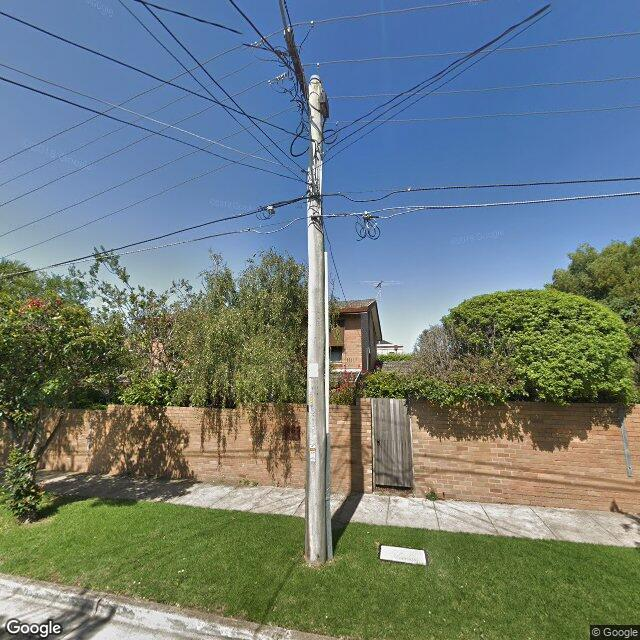crossarm: (250, 26, 310, 104)
timber-pole: (304, 73, 334, 566)
